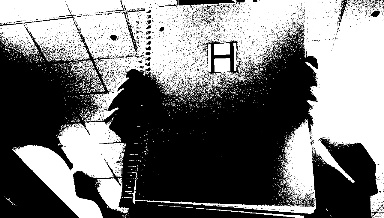H: (208, 43, 236, 71)
